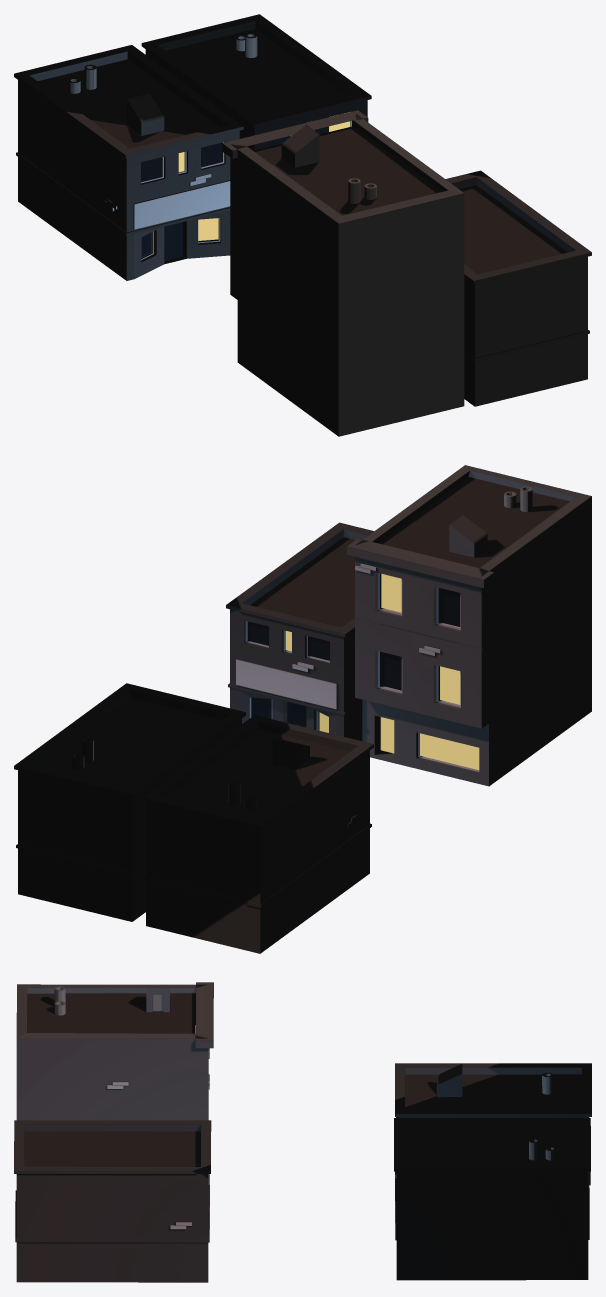
The model's file is Builings.glb.
The picture shows the model from 3 angles, top to bottom: view 1: azimuth 30°, elevation 25°; view 2: azimuth 150°, elevation 25°; view 3: azimuth 270°, elevation 25°; orthographic projection. The views are drawn at different scales.
Parts seen in each view (by area): view 1: Building_1; view 2: Building_1; view 3: Building_1.
Boxes of the visible parts, bbox=[...] form: Building_1: bbox=[14, 14, 591, 436]; Building_1: bbox=[14, 465, 591, 953]; Building_1: bbox=[14, 982, 591, 1282].
Size of the model in its own units: 409 by 363 by 904.
1 material, 1 textured.
